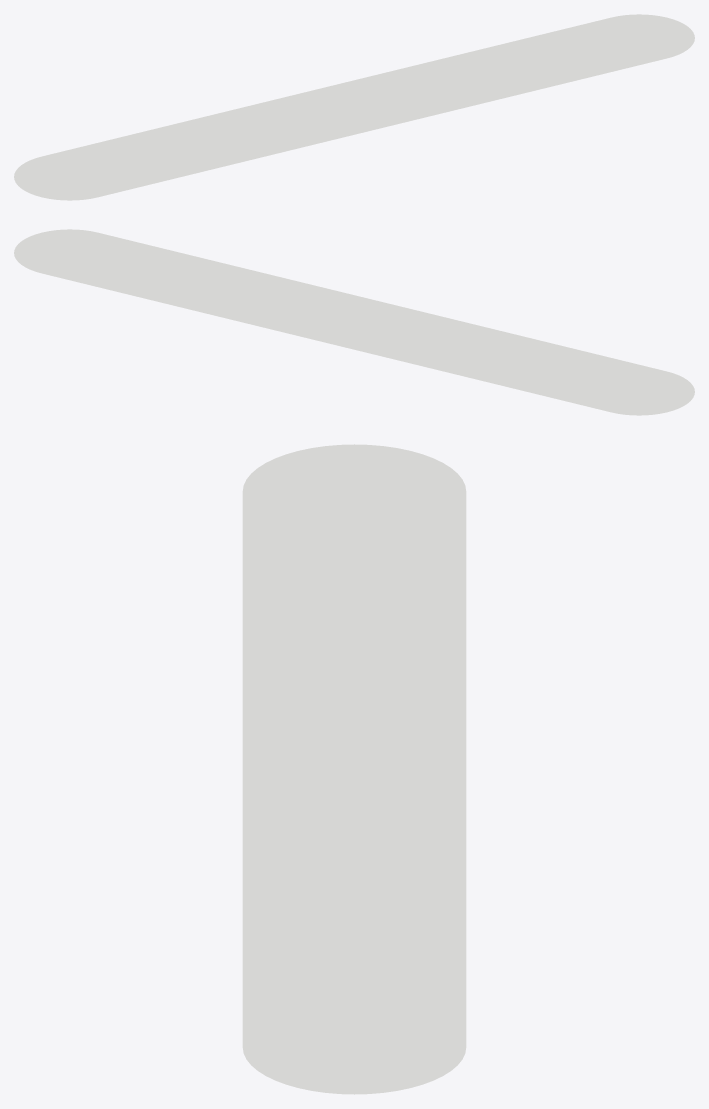
The model's file is nano_cap_bottom.obj.
The picture shows the model from 3 angles, top to bottom: view 1: azimuth 30°, elevation 25°; view 2: azimuth 150°, elevation 25°; view 3: azimuth 270°, elevation 25°; orthographic projection. The views are drawn at different scales.
Size of the model in its own units: 0.0392 by 0 by 0.0057.
1 material, 1 textured.
